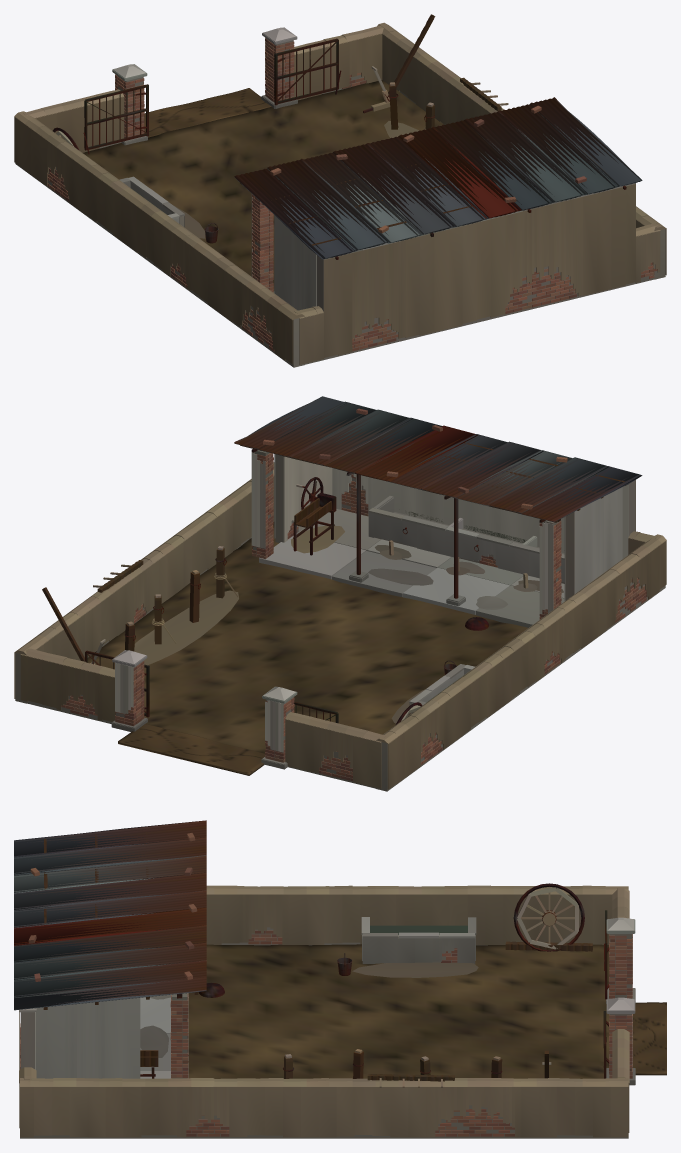
The model's file is gher_yard.glb.
3 renders of one model, top to bottom at view 1: azimuth 30°, elevation 25°; view 2: azimuth 150°, elevation 25°; view 3: azimuth 270°, elevation 25°, orthographic. The views are drawn at different scales.
Visible parts, largest first — view 1: gher_yard_hb_main, gher_yard_hb_tin, gher_yard_hb_metal, gher_yard_hb_wood; view 2: gher_yard_hb_main, gher_yard_hb_tin, gher_yard_hb_wood, gher_yard_hb_metal; view 3: gher_yard_hb_main, gher_yard_hb_tin, gher_yard_hb_wood, gher_yard_hb_metal.
Part boxes in pixels (<box>): gher_yard_hb_main: <box>14,22,666,367</box>; gher_yard_hb_tin: <box>234,97,642,259</box>; gher_yard_hb_metal: <box>53,38,626,259</box>; gher_yard_hb_wood: <box>56,14,508,245</box>; gher_yard_hb_main: <box>14,408,666,791</box>; gher_yard_hb_tin: <box>234,396,642,522</box>; gher_yard_hb_wood: <box>42,442,626,720</box>; gher_yard_hb_metal: <box>85,449,560,725</box>; gher_yard_hb_main: <box>19,833,666,1138</box>; gher_yard_hb_tin: <box>14,820,206,1010</box>; gher_yard_hb_wood: <box>43,832,592,1087</box>; gher_yard_hb_metal: <box>140,883,609,1078</box>.
Size of the model in its own units: 9.45 by 3.03 by 12.77.
